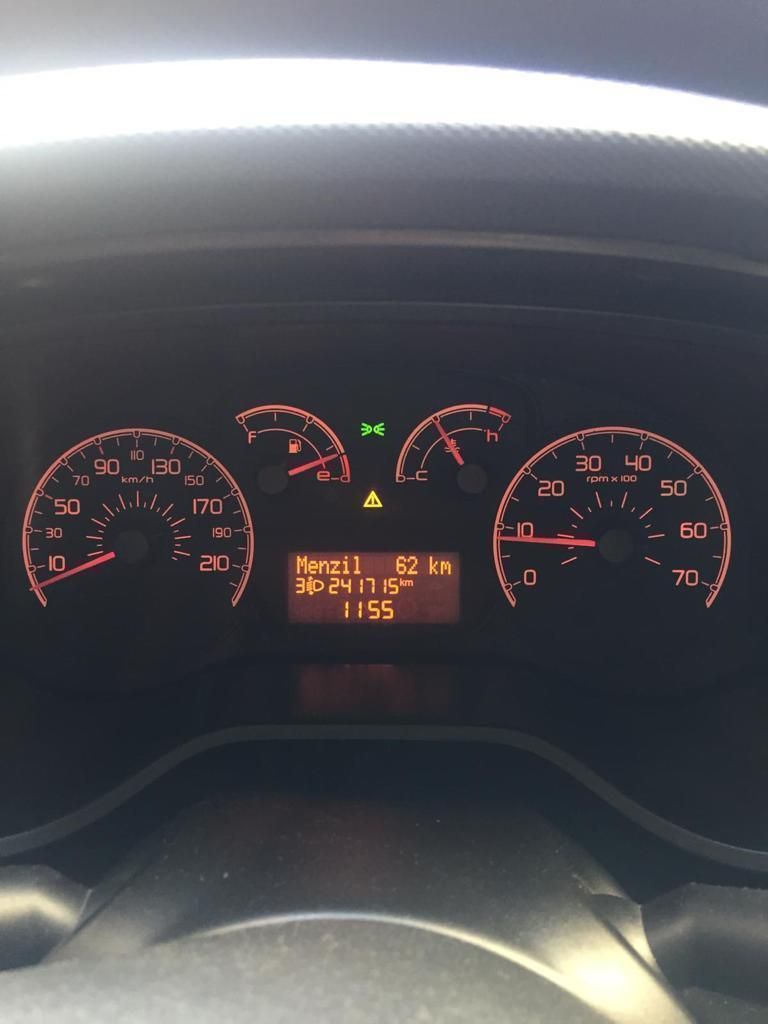1: (356, 598, 364, 619), (343, 598, 350, 620), (359, 577, 364, 595), (383, 576, 387, 594)
2: (407, 554, 419, 575), (328, 576, 339, 594)
3: (294, 576, 305, 595)
4: (340, 577, 351, 594)
5: (366, 599, 380, 619), (380, 599, 394, 619), (388, 576, 398, 595)
6: (395, 555, 406, 574)
7: (365, 576, 377, 594)
X: (439, 558, 452, 575), (296, 554, 307, 574), (429, 554, 438, 575), (341, 554, 350, 574), (353, 554, 361, 575), (318, 559, 329, 574), (308, 559, 318, 574), (330, 560, 340, 574), (404, 579, 414, 586), (399, 577, 404, 587)
odometer: (281, 548, 465, 626)
